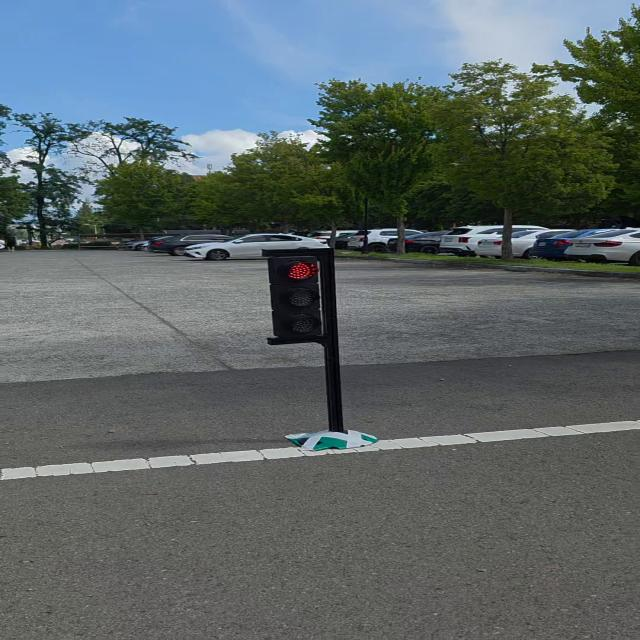red: (265, 254, 325, 343)
